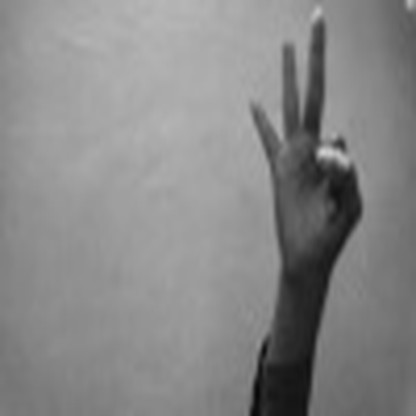f: (243, 1, 373, 272)
